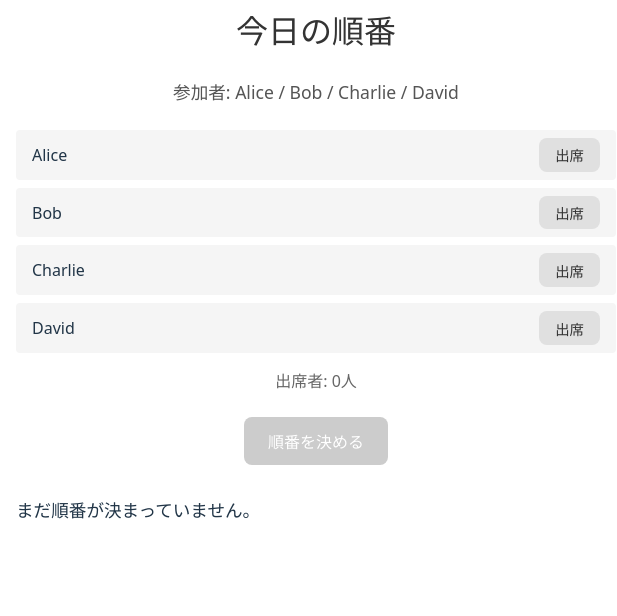
Test: App › シャッフル機能 › 出席者のみがシャッフル対象になる
// AliceとBobを出席状態にする
Click the 1st button "出席" at (570, 155), box [539,138,600,172]
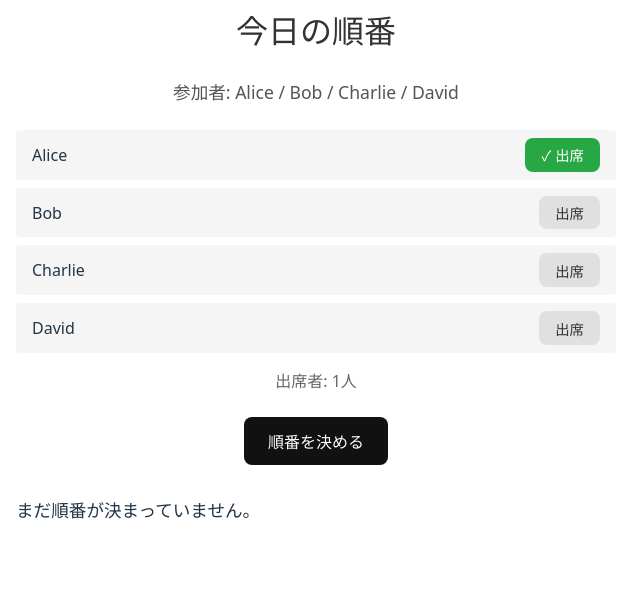
Click the 1st button "出席" at (570, 212), box [539,196,600,229]
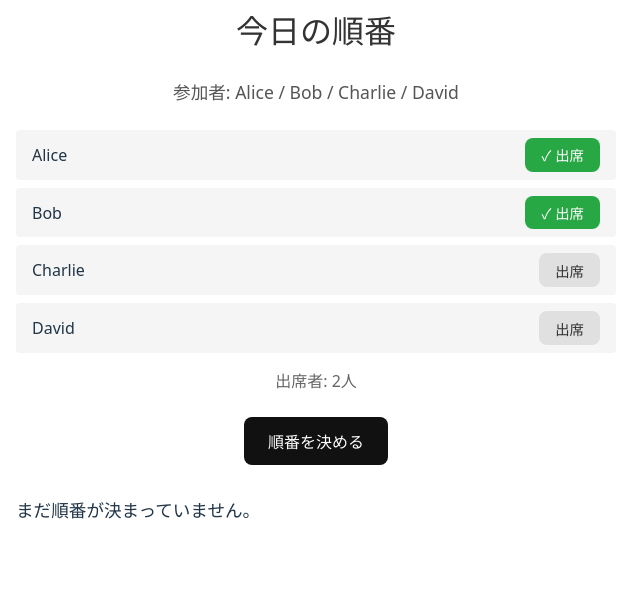
Click the button "順番を決める" at (316, 441), box [244,417,388,465]
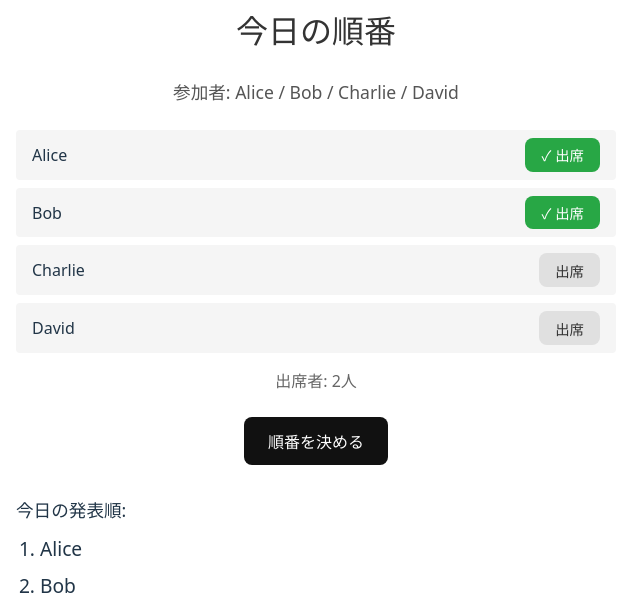
Now the text "今日の発表順:" is shown, box [16,498,126,522]
Now the number of list items is 2, box [40,535,82,562]; [40,572,76,599]
